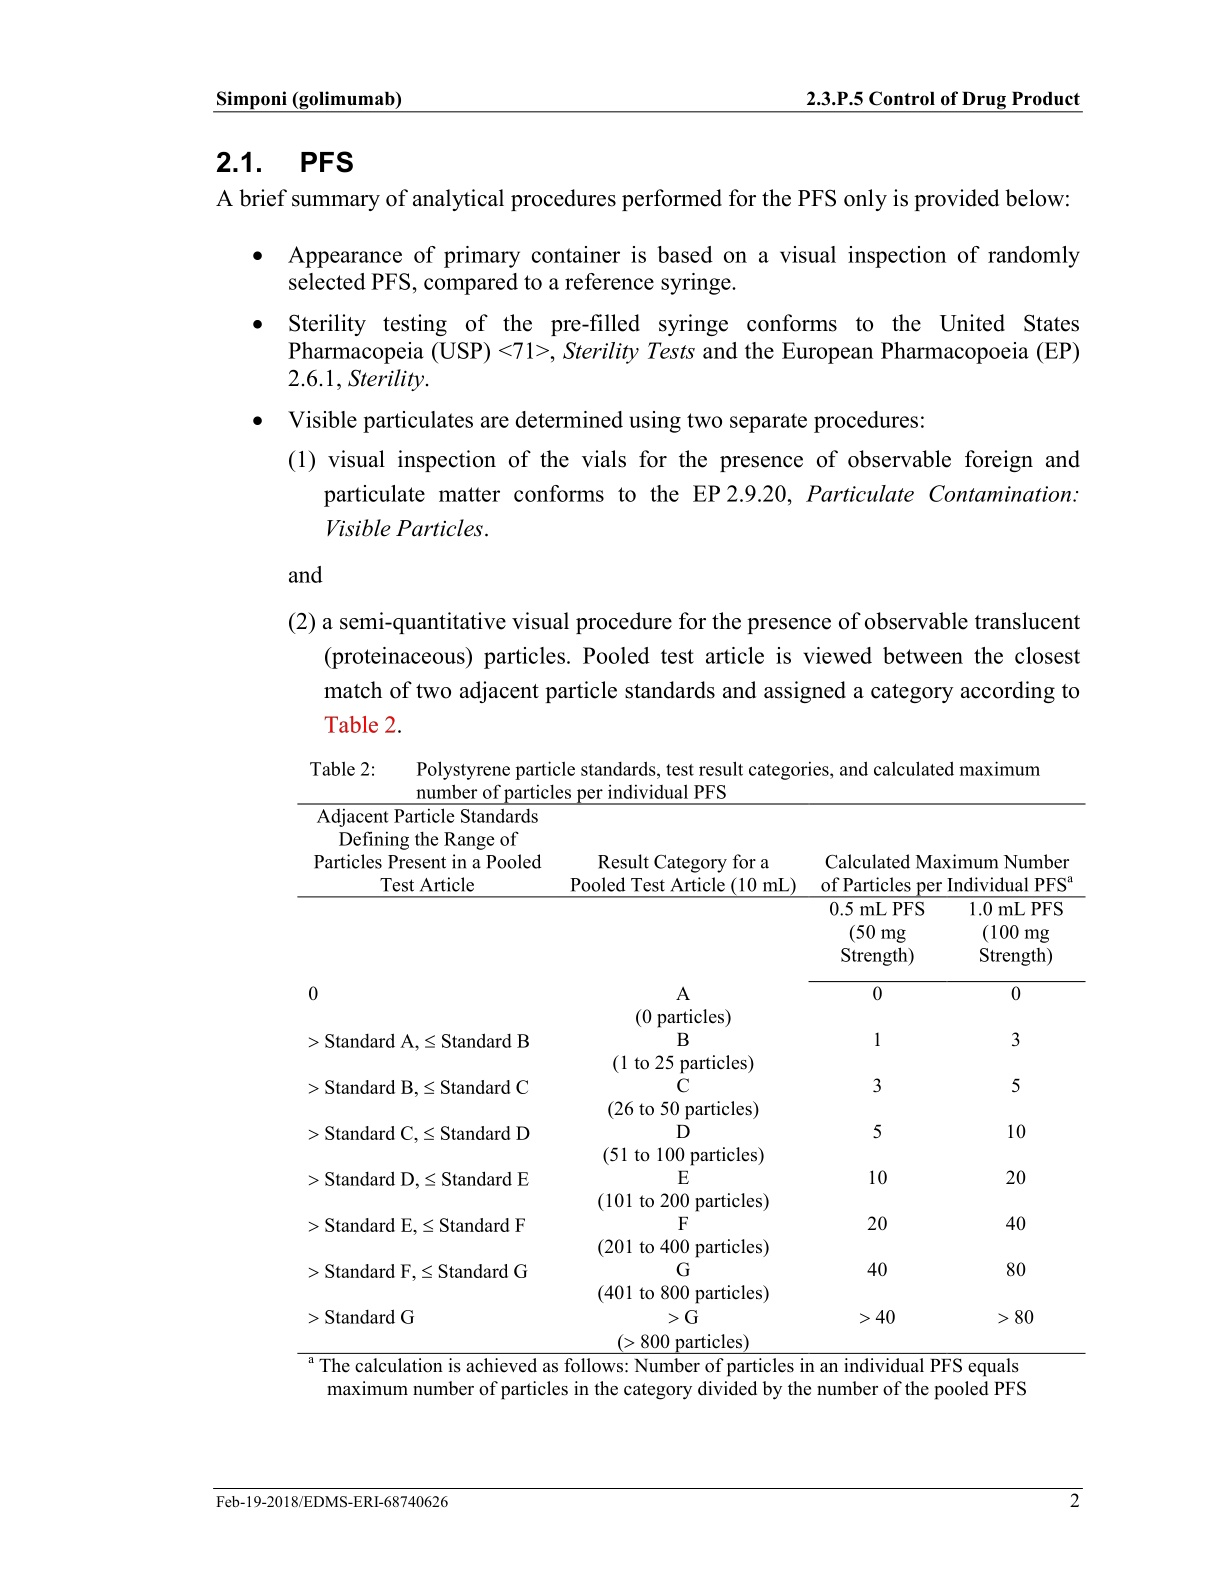partial_lined_merged_cells: (296, 804, 1085, 1355)
